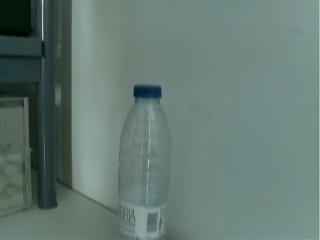botella plastico: (117, 84, 166, 240)
